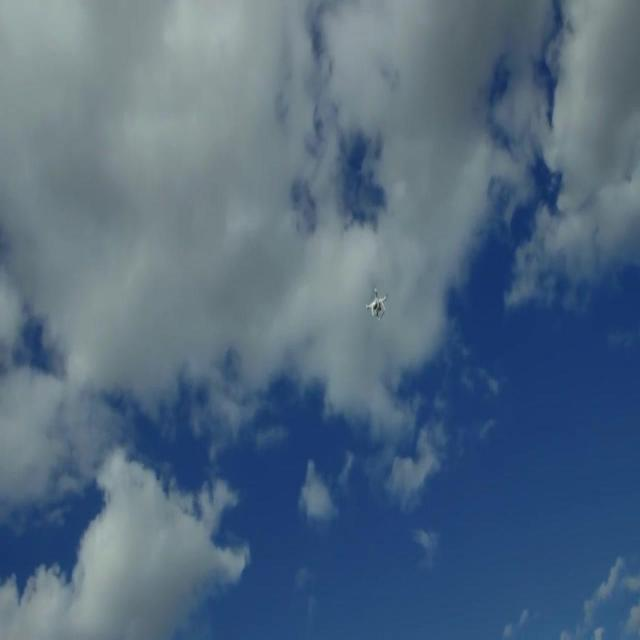UAV: (366, 288, 386, 320)
